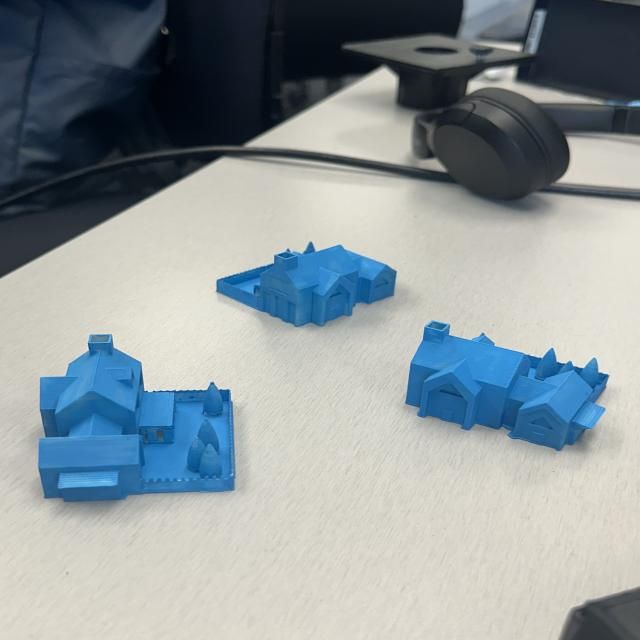house: (36, 332, 240, 503), (404, 320, 610, 454), (215, 240, 396, 328)
